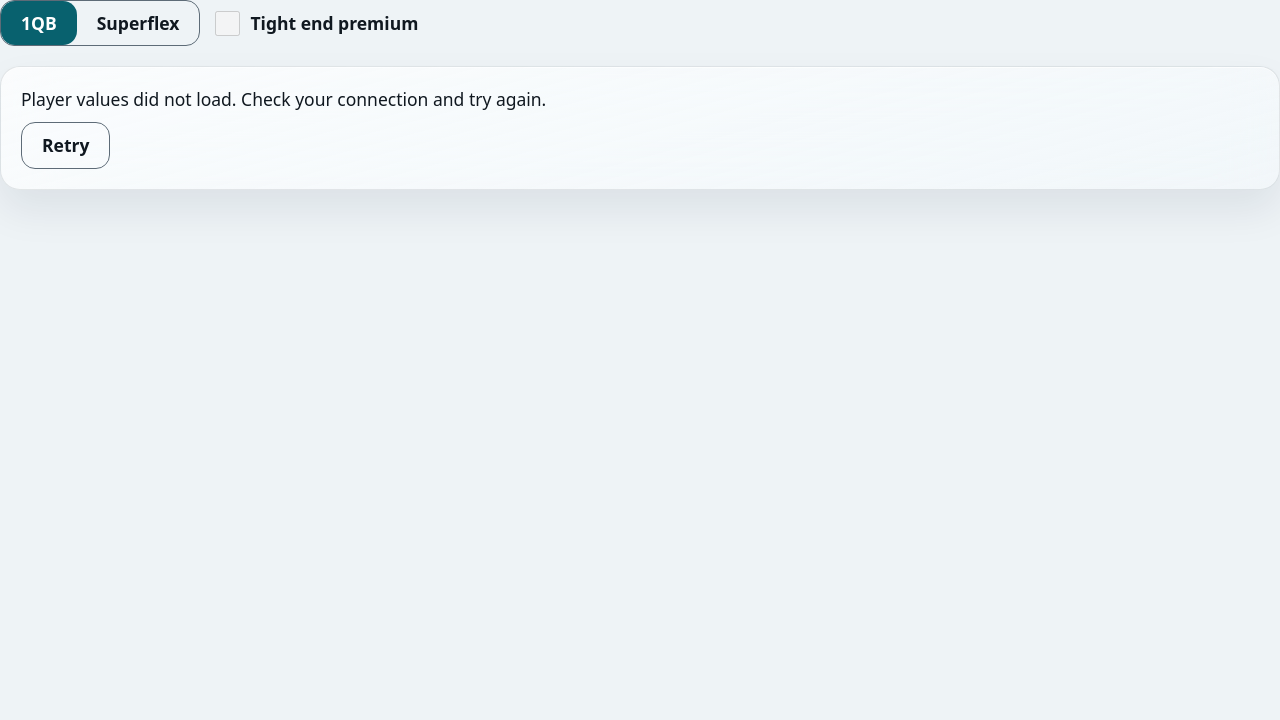
Test: PublicTradeAnalyzer › shows a retry state when values fail to load
Expected: the message shows "did not load", [21,87,546,111]
Click the button "Retry": (66, 146) [21,122,110,169]
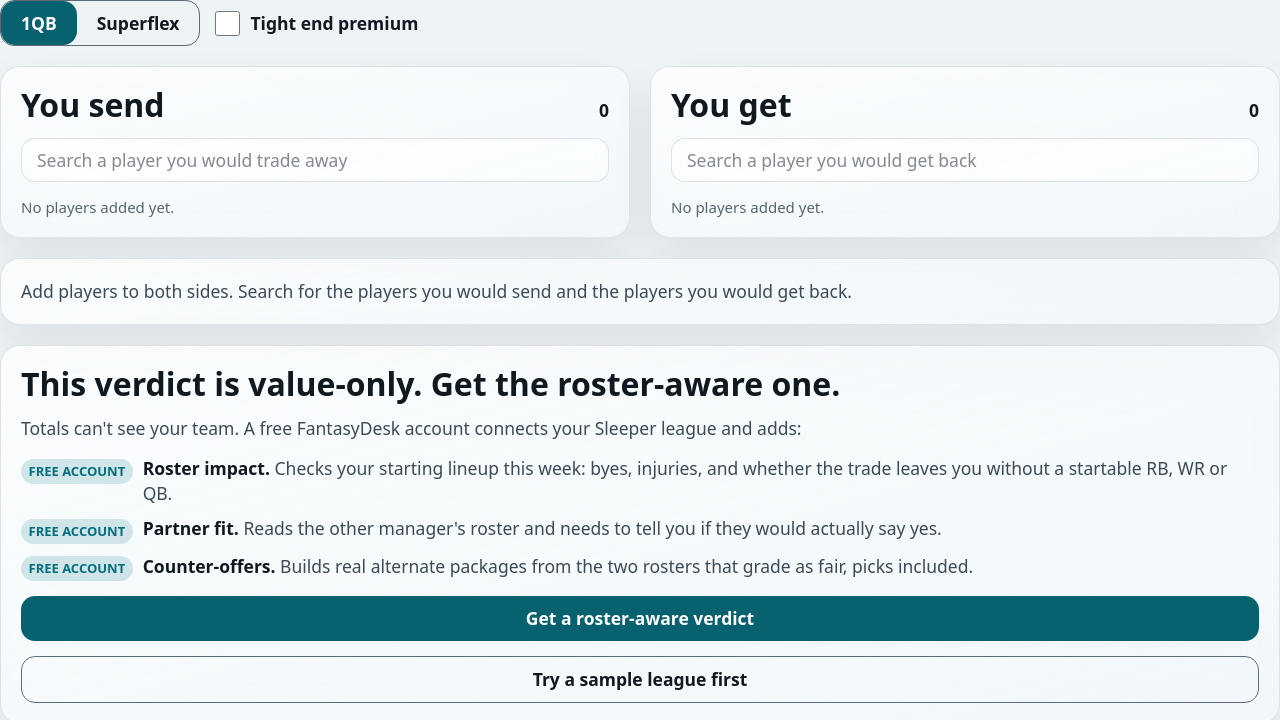
Expected: the dropdown named "Search players for You send" is shown, [21,138,609,182]
